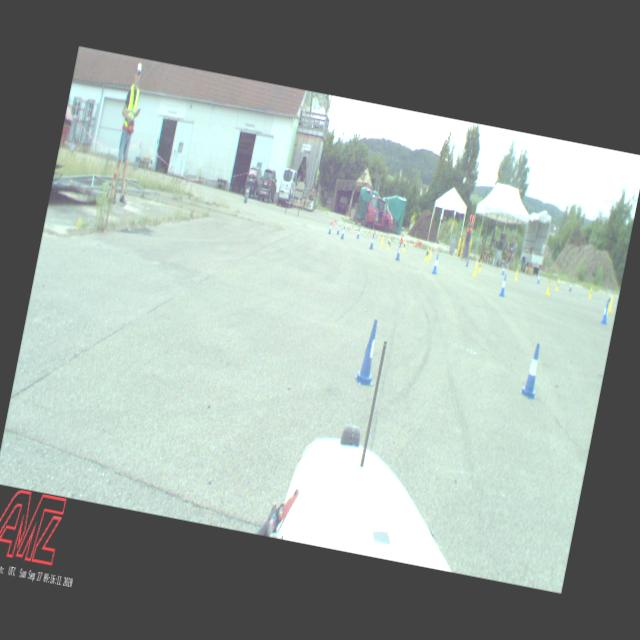blue_cone: (354, 318, 384, 387), (519, 342, 546, 399), (600, 301, 611, 325), (498, 274, 508, 297), (432, 253, 441, 274), (395, 244, 403, 261), (370, 234, 376, 250), (340, 226, 346, 240), (328, 222, 333, 235), (356, 228, 361, 240), (336, 223, 341, 234), (388, 236, 392, 248), (502, 265, 506, 275), (466, 256, 470, 266), (569, 282, 573, 291), (537, 274, 541, 283)
yellow_cone: (608, 295, 615, 313), (472, 260, 479, 277), (545, 280, 552, 296), (424, 247, 430, 261), (588, 286, 593, 299), (386, 238, 392, 248), (555, 279, 560, 291), (478, 260, 483, 272), (514, 269, 519, 281), (428, 248, 433, 260), (402, 240, 406, 252), (380, 236, 384, 247)
